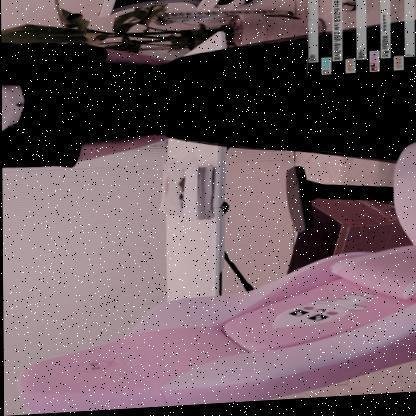streamer: (0, 24, 416, 186)
